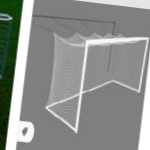goals: (45, 30, 150, 136)
